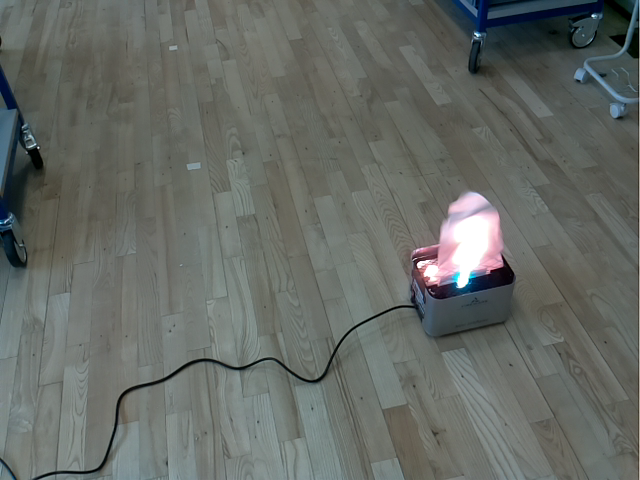fire: (425, 191, 503, 287)
